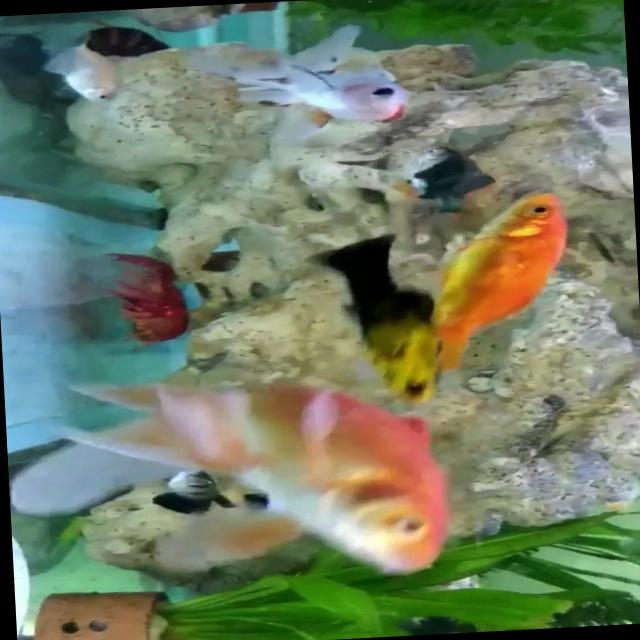GoldFish: (45, 351, 472, 600), (406, 178, 588, 370)
